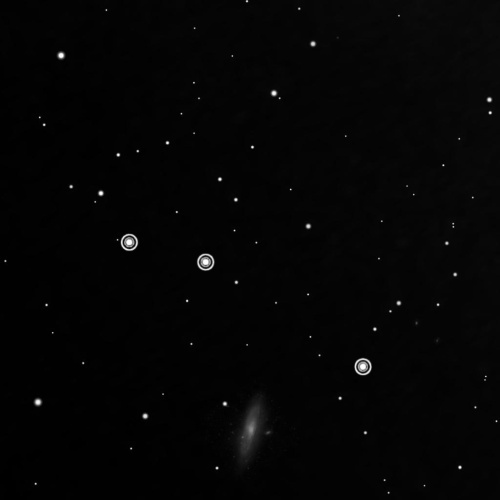vulpecula: (114, 228, 376, 381)
